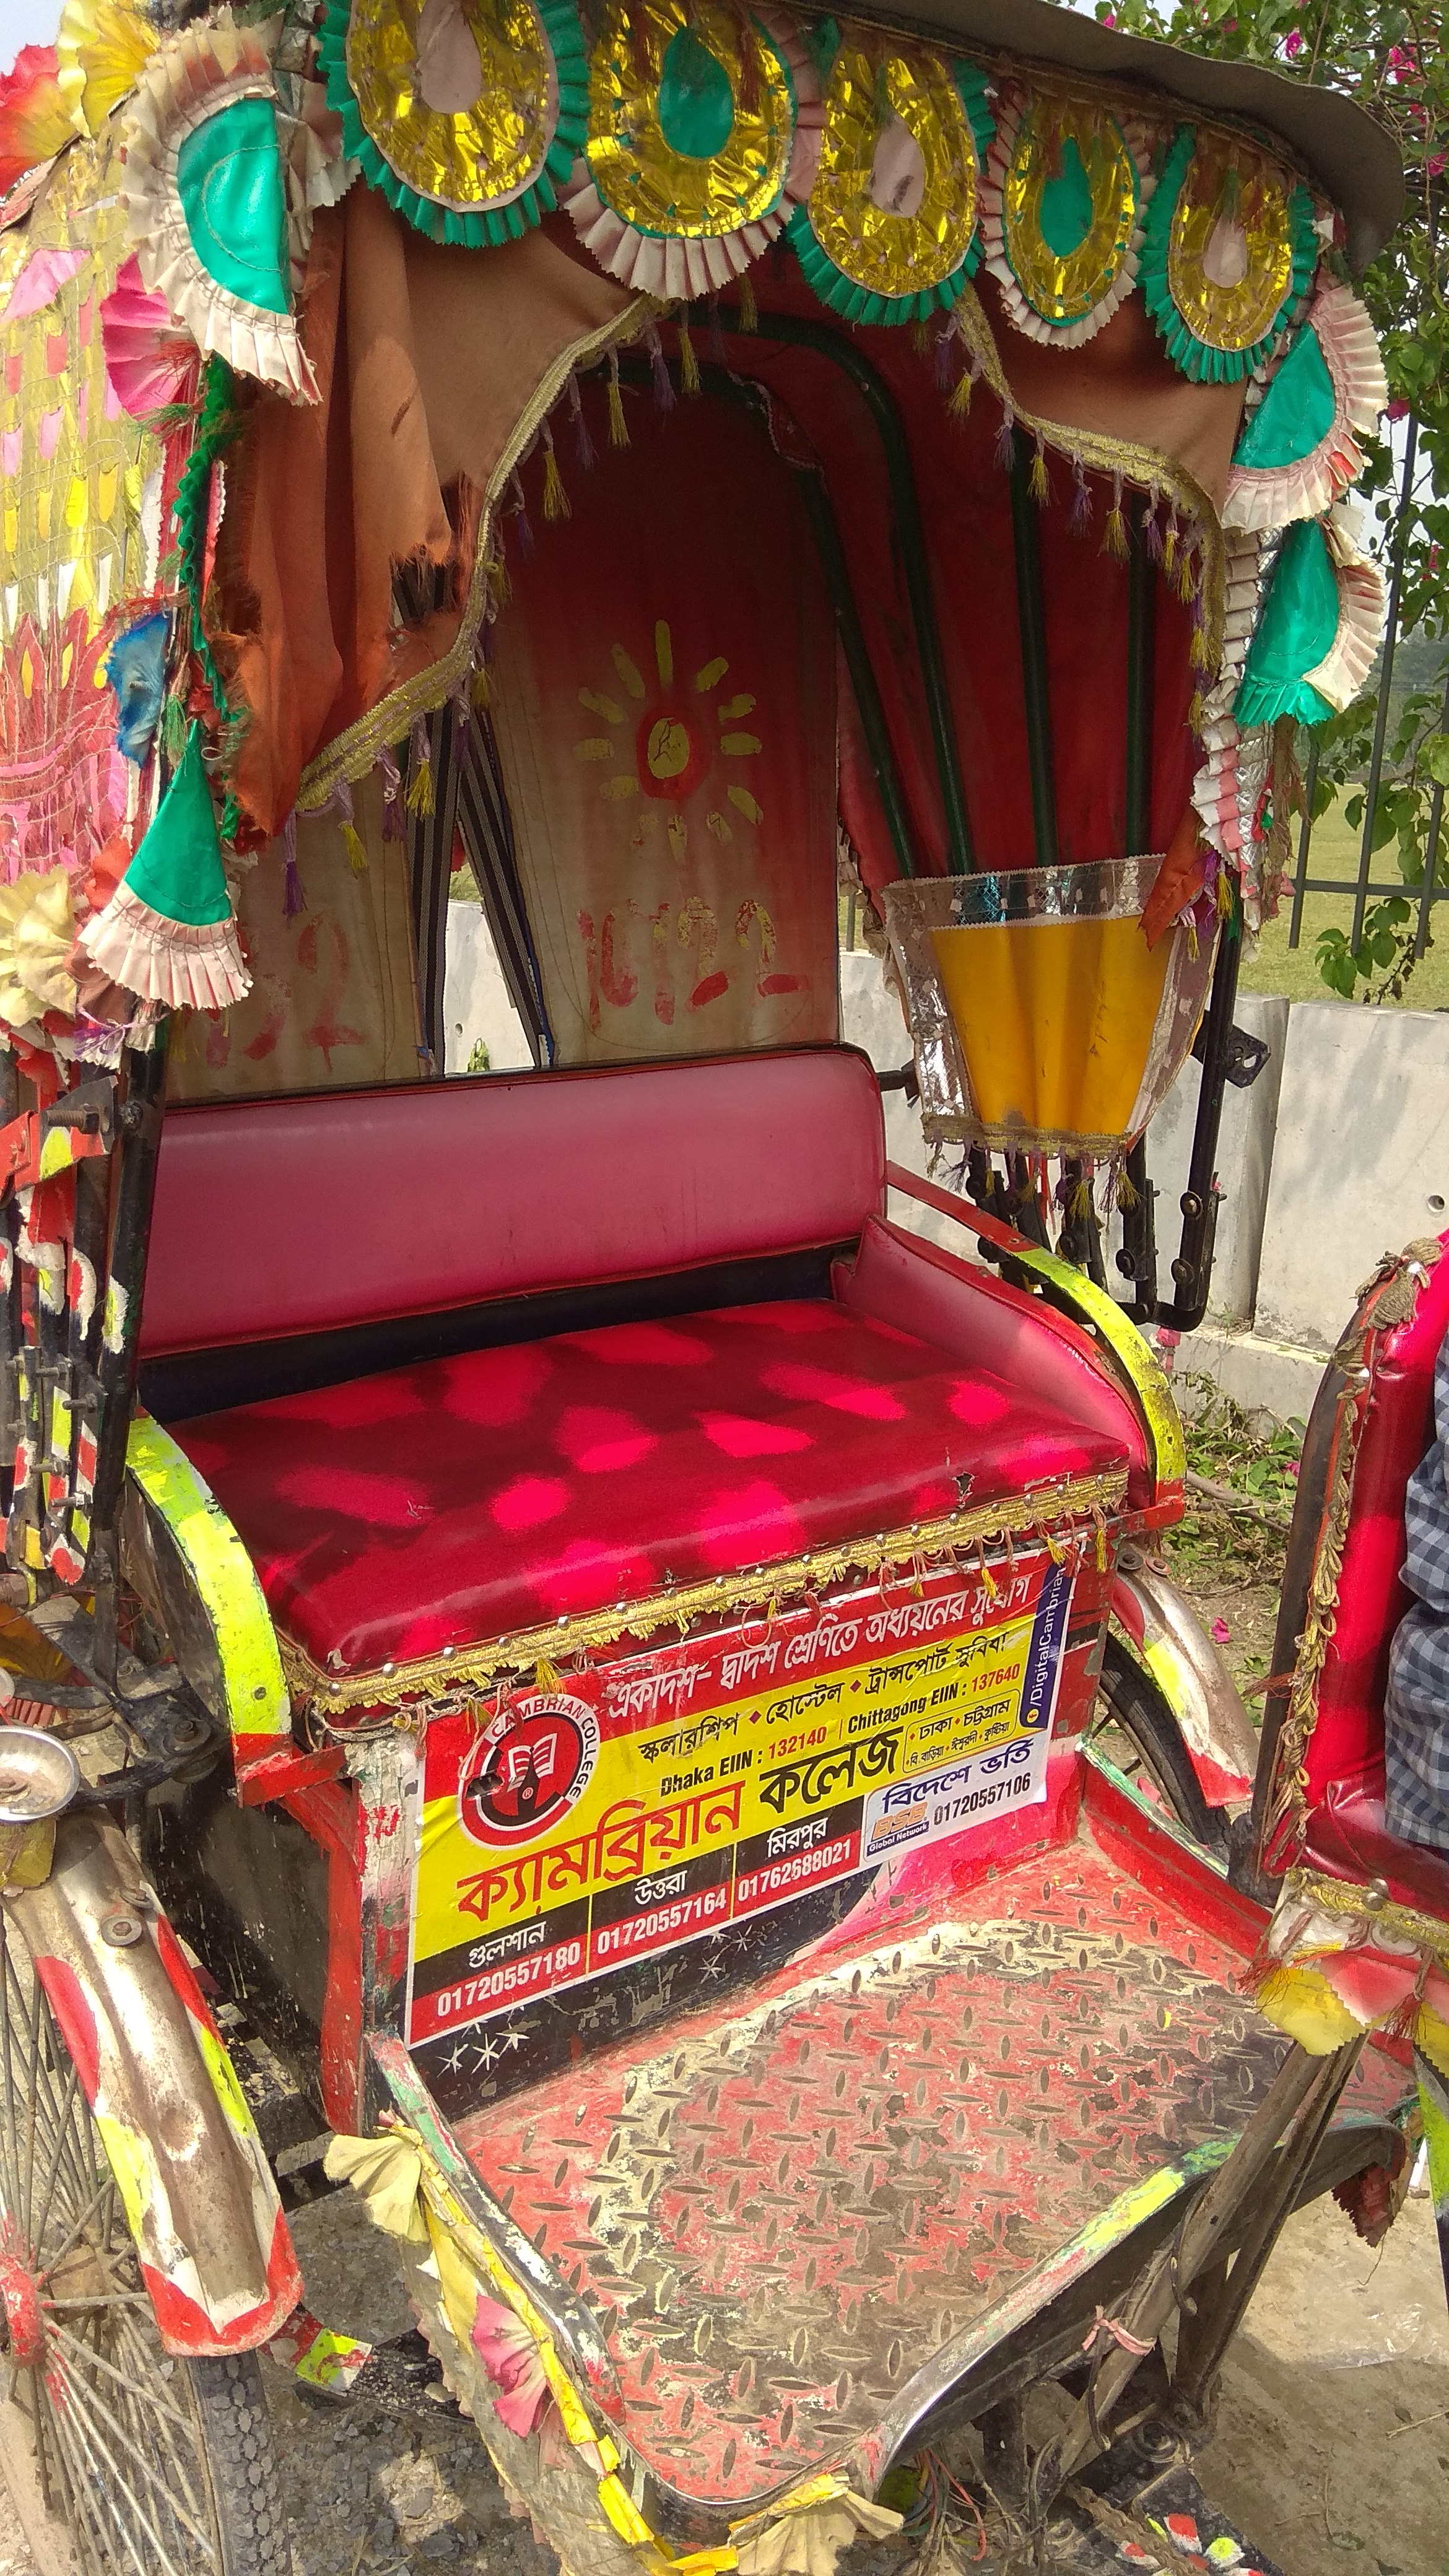Rickshaw: (19, 7, 1424, 2542)
